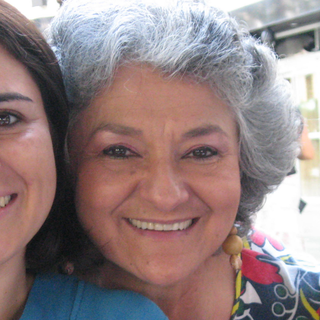eye: (94, 140, 142, 164), (178, 141, 226, 165), (0, 107, 26, 131)
